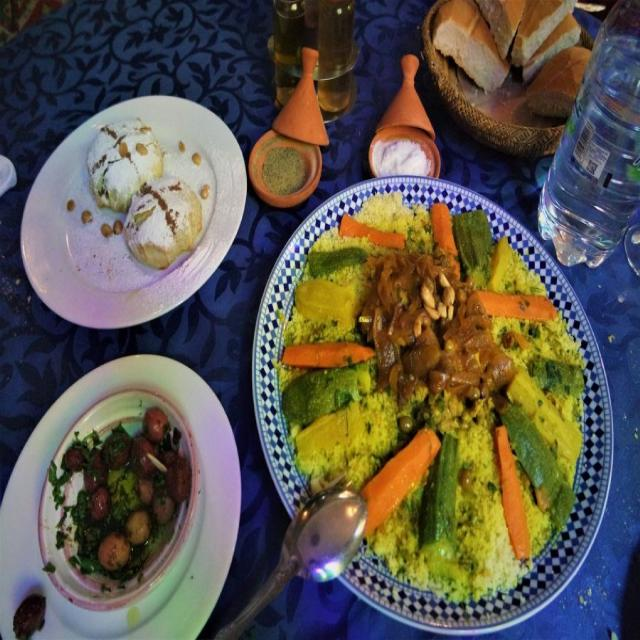non-organic waste: (249, 125, 640, 640), (7, 341, 272, 640), (21, 82, 249, 381)
